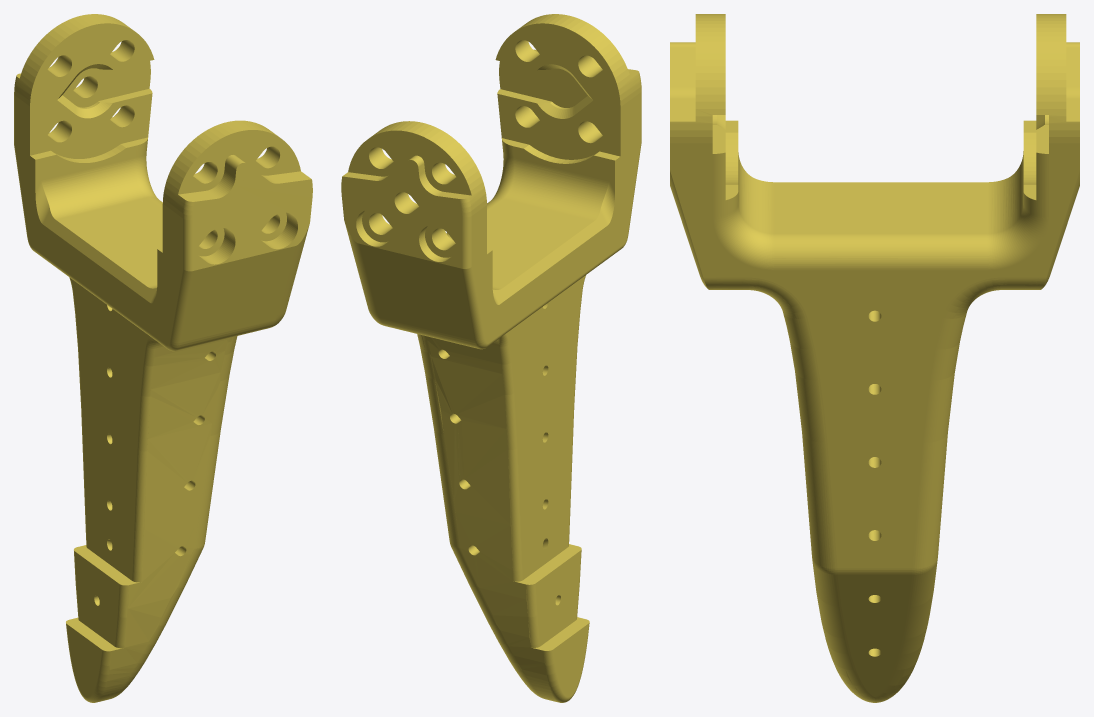
The model's file is moving_jaw_so101_v1_link.glb.
3 renders of one model, left to right at view 1: azimuth 30°, elevation 25°; view 2: azimuth 150°, elevation 25°; view 3: azimuth 270°, elevation 25°, orthographic. The views are drawn at different scales.
Parts seen in each view (by area): view 1: moving_jaw_so101_v1_link_0; view 2: moving_jaw_so101_v1_link_0; view 3: moving_jaw_so101_v1_link_0.
Part boxes in pixels (x1=…): moving_jaw_so101_v1_link_0: x1=14, y1=14, x2=312, y2=702; moving_jaw_so101_v1_link_0: x1=341, y1=14, x2=641, y2=702; moving_jaw_so101_v1_link_0: x1=670, y1=14, x2=1079, y2=702.
Size of the model in its own units: 0.0223 by 0.092 by 0.048.
